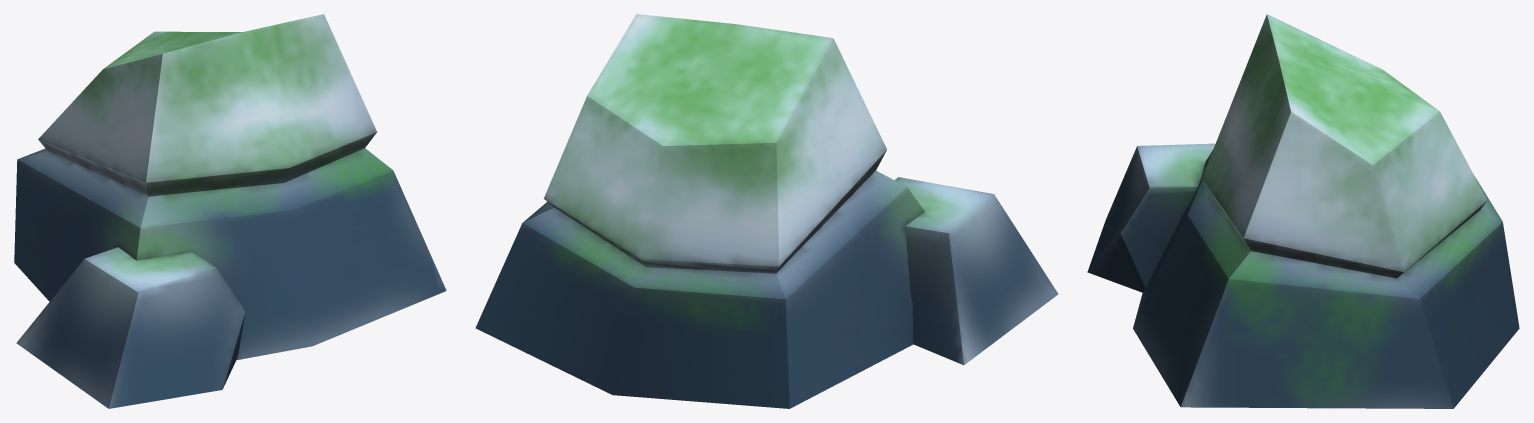
Rendered from Rock_Moss_6.fbx.
3 renders of one model, left to right at view 1: azimuth 30°, elevation 25°; view 2: azimuth 150°, elevation 25°; view 3: azimuth 270°, elevation 25°, orthographic. The views are drawn at different scales.
Visible parts, largest first — view 1: Rock_Moss_6; view 2: Rock_Moss_6; view 3: Rock_Moss_6.
Boxes of the visible parts, x1=… form: Rock_Moss_6: x1=14, y1=14, x2=446, y2=408; Rock_Moss_6: x1=475, y1=14, x2=1058, y2=408; Rock_Moss_6: x1=1087, y1=14, x2=1519, y2=408.
Bounding box in the file's own units: 1.1 × 0.733 × 1.05.
